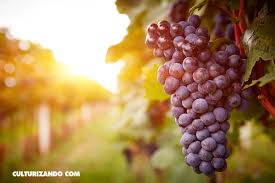Black grapes: (149, 18, 246, 178)
